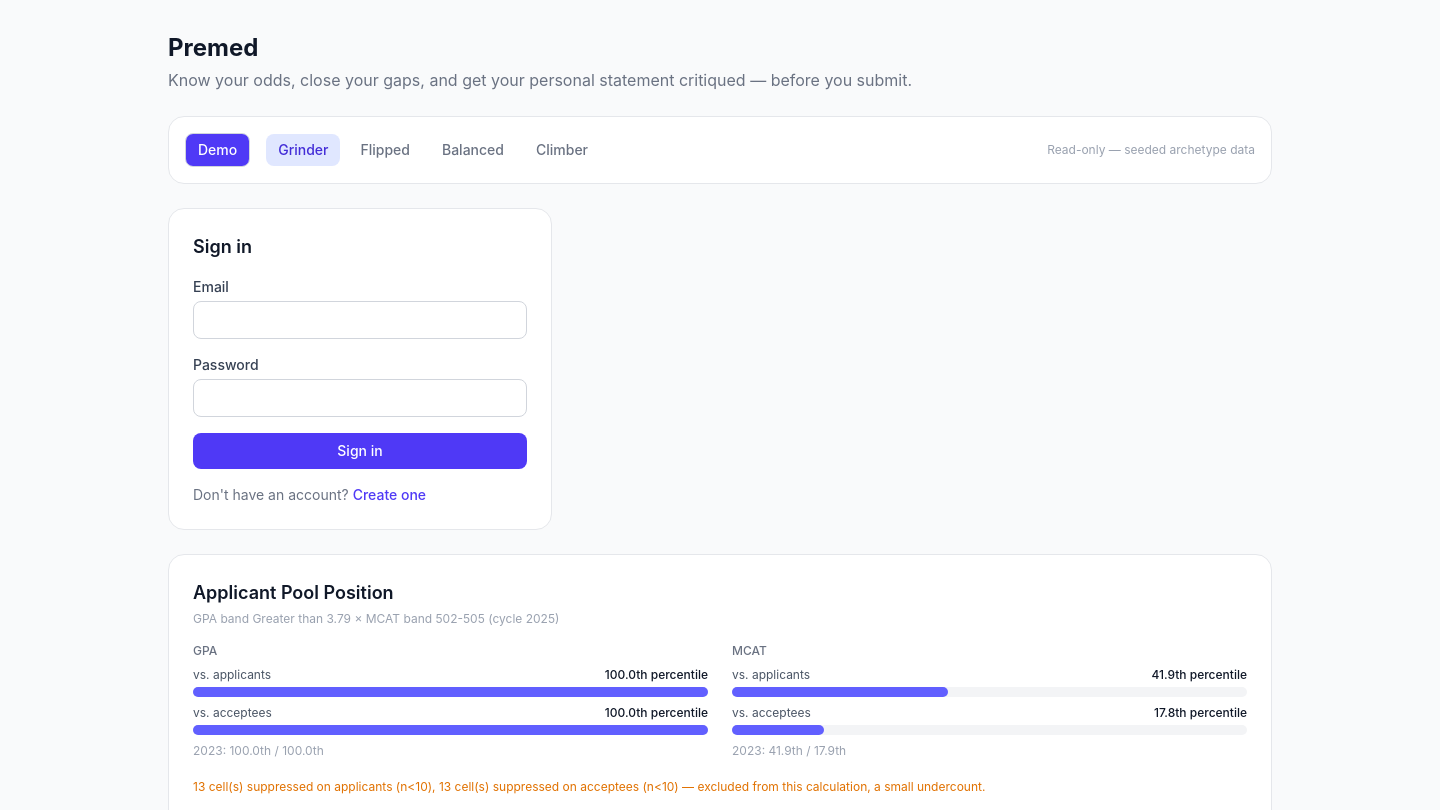
Test case: PremedPage › logged-out auth panel › shows a check-your-email message when signup succeeds with no session
Click the button "Create one". click: [389, 495]
box: x1=353 y1=485 x2=426 y2=505
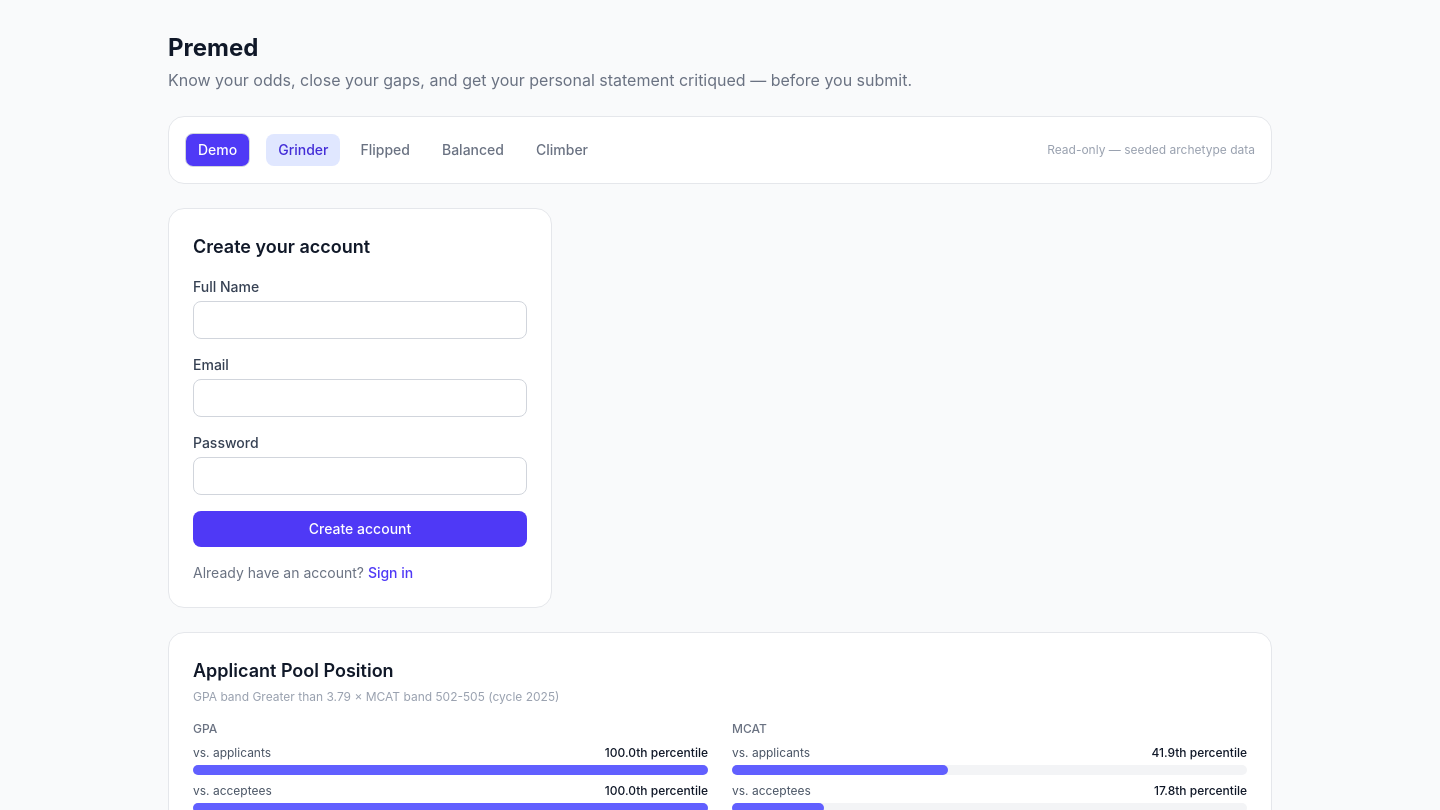
Type "A Name" into the field labelled "Full Name". click: [360, 320]
box: x1=193 y1=301 x2=527 y2=339
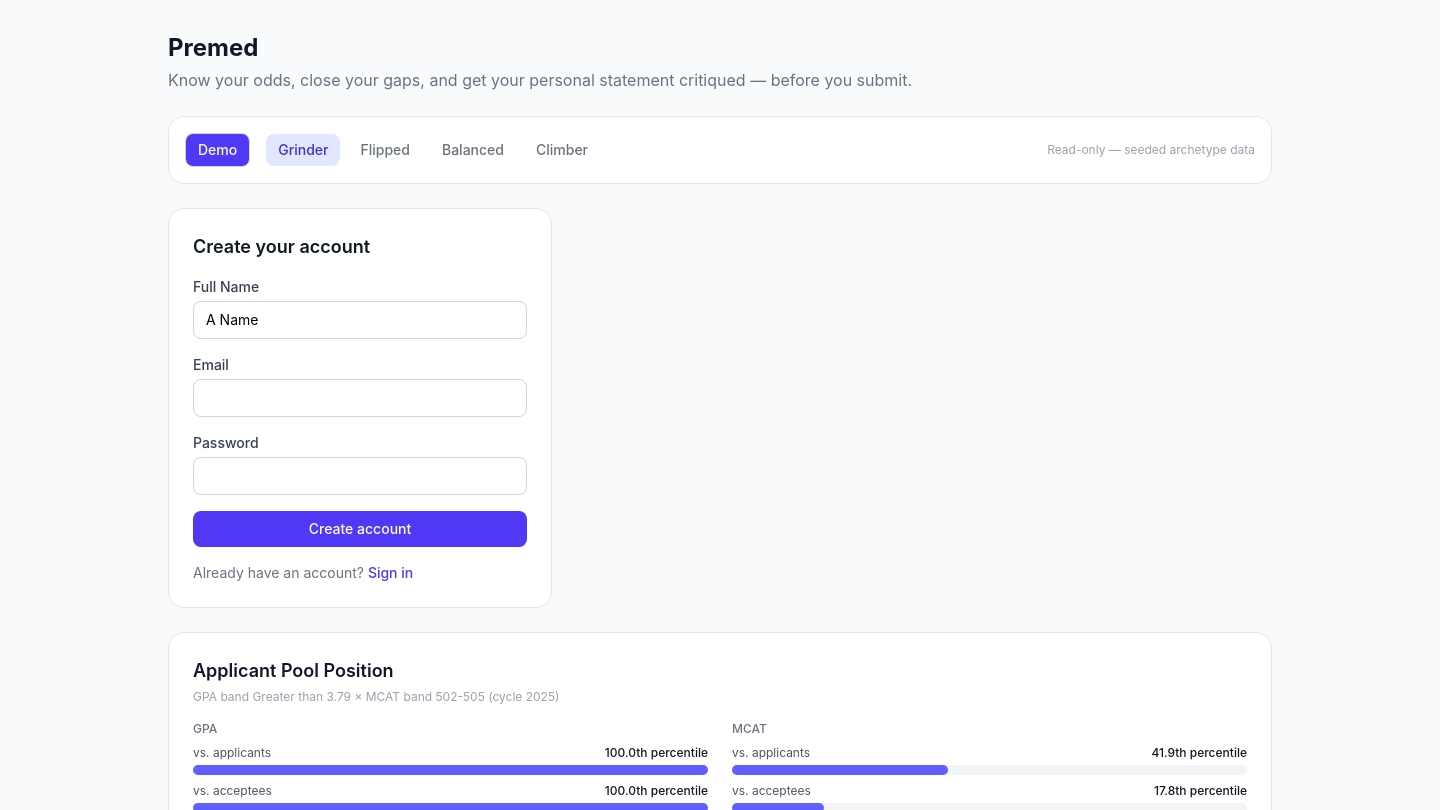
Type "a@b.com" into the field labelled "Email". click: [360, 398]
box: x1=193 y1=379 x2=527 y2=417
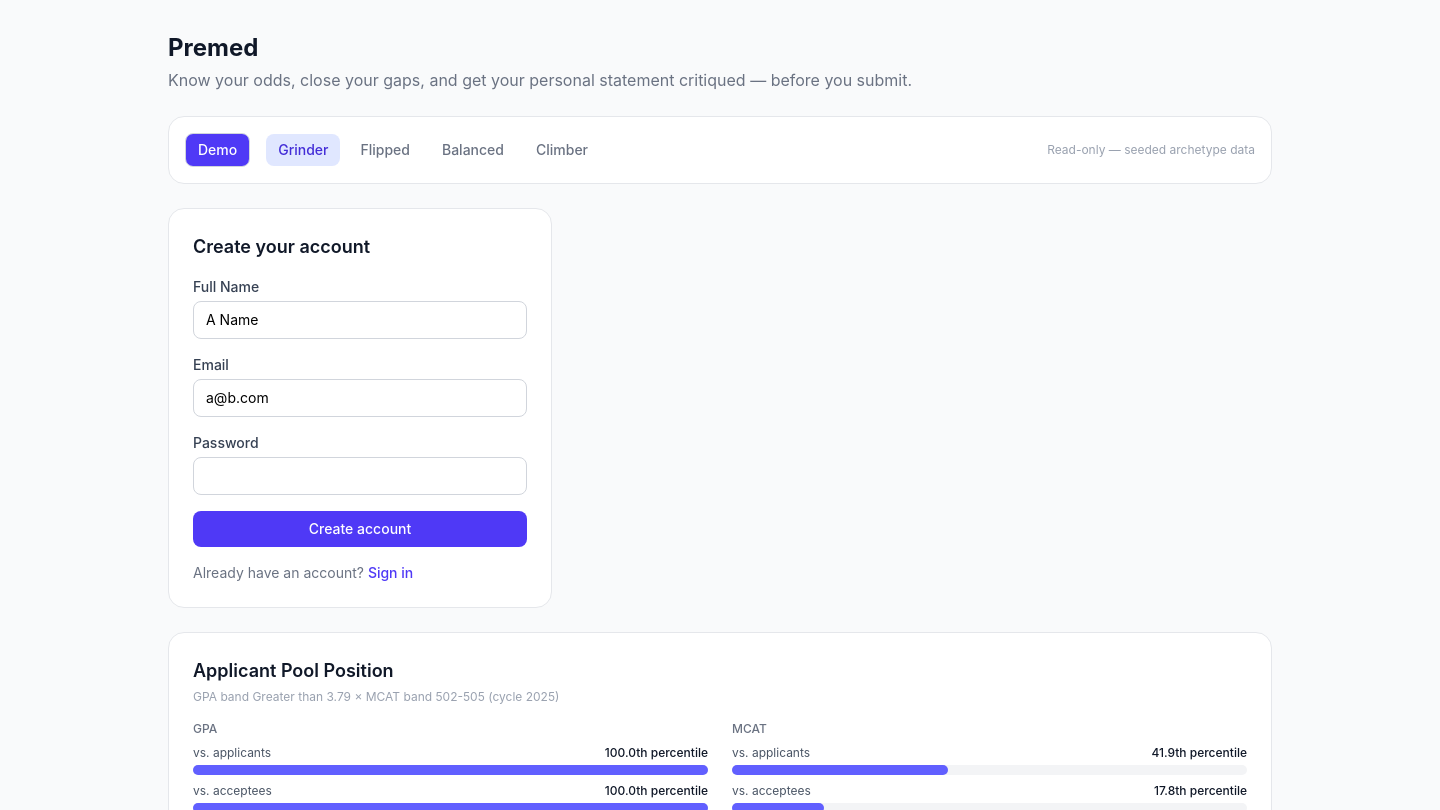
Type "password123" into the password field labelled "Password". click: [360, 476]
box: x1=193 y1=457 x2=527 y2=495
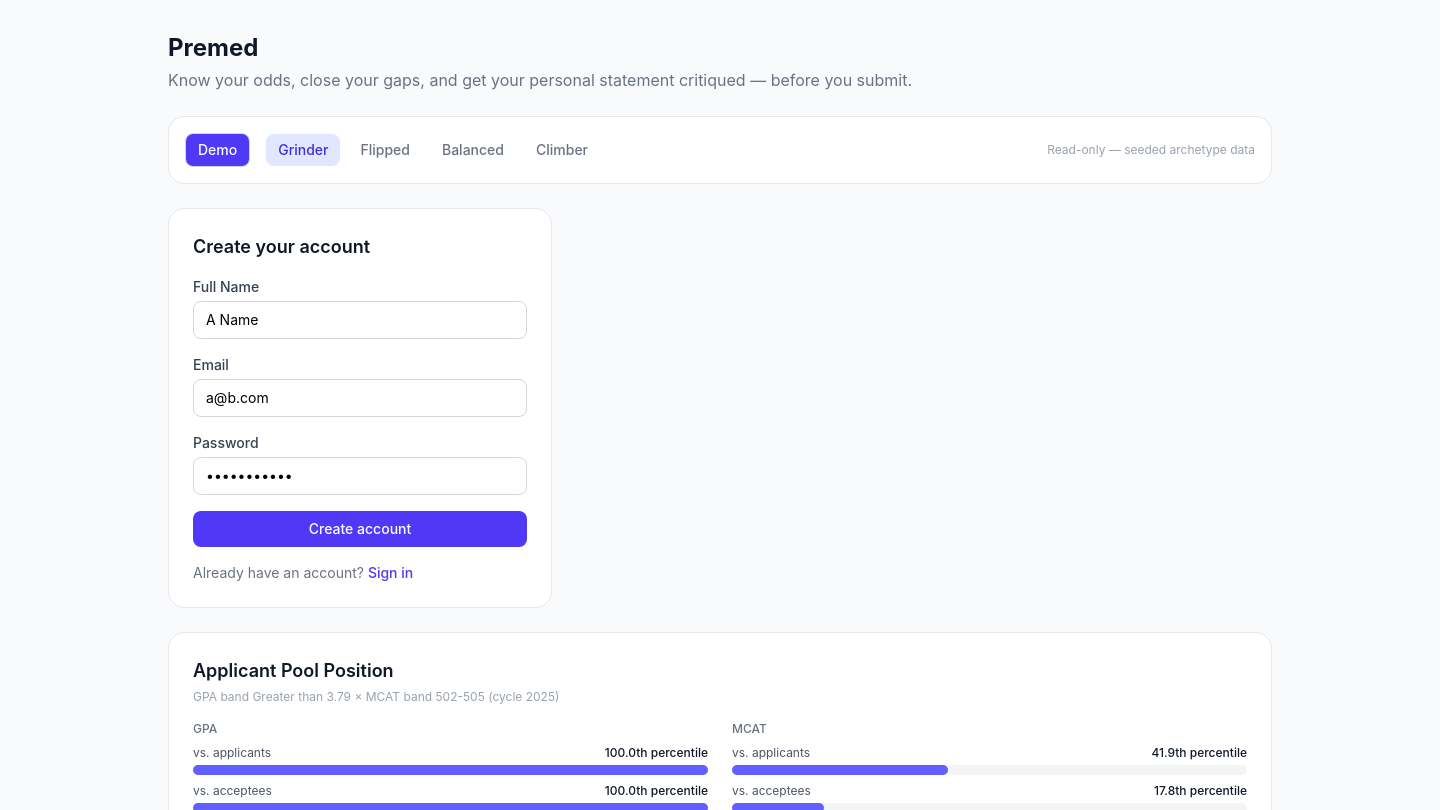
Click the button "Create account". click: [360, 529]
box: x1=193 y1=511 x2=527 y2=547
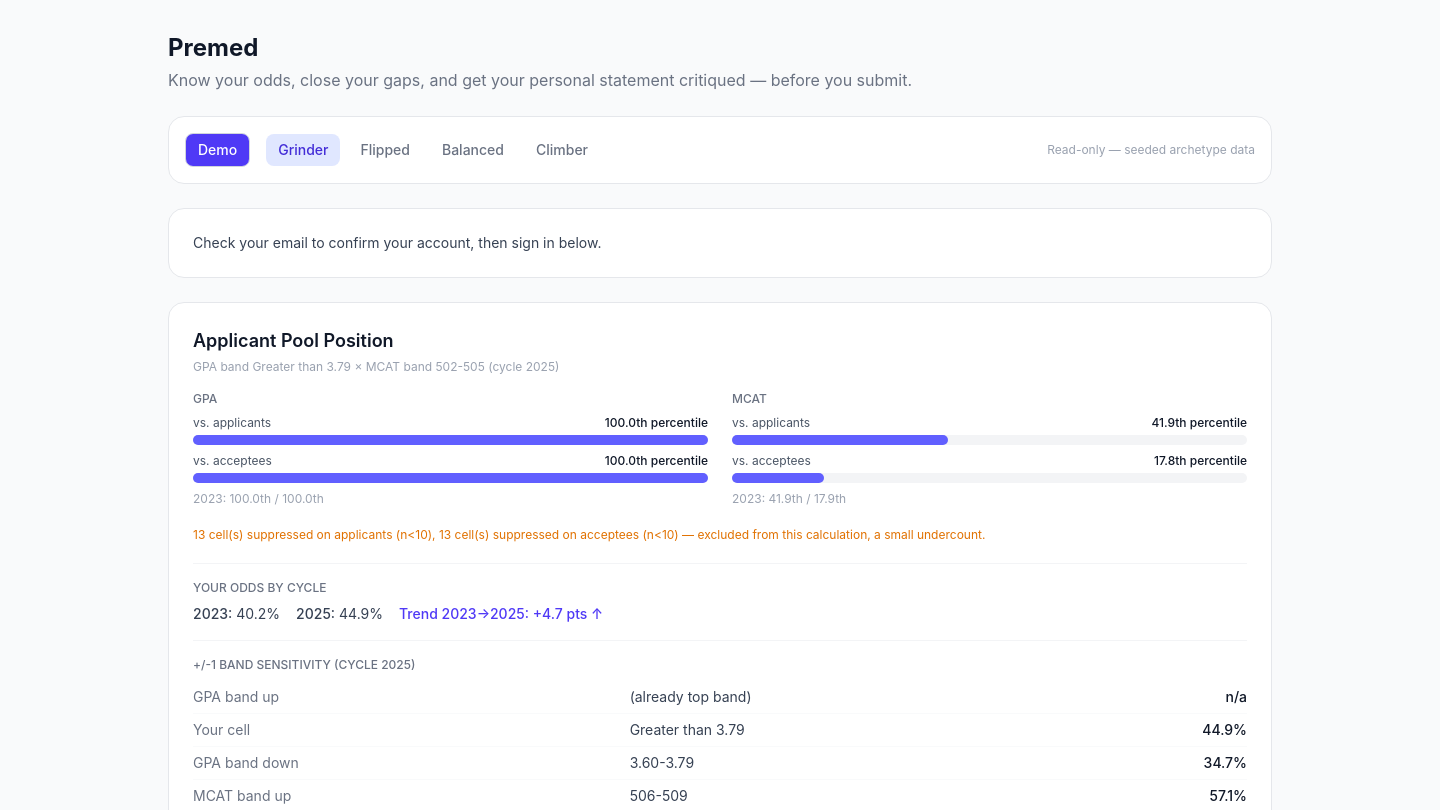
Result: the text "Check your email" is shown at x1=193 y1=234 x2=601 y2=251
